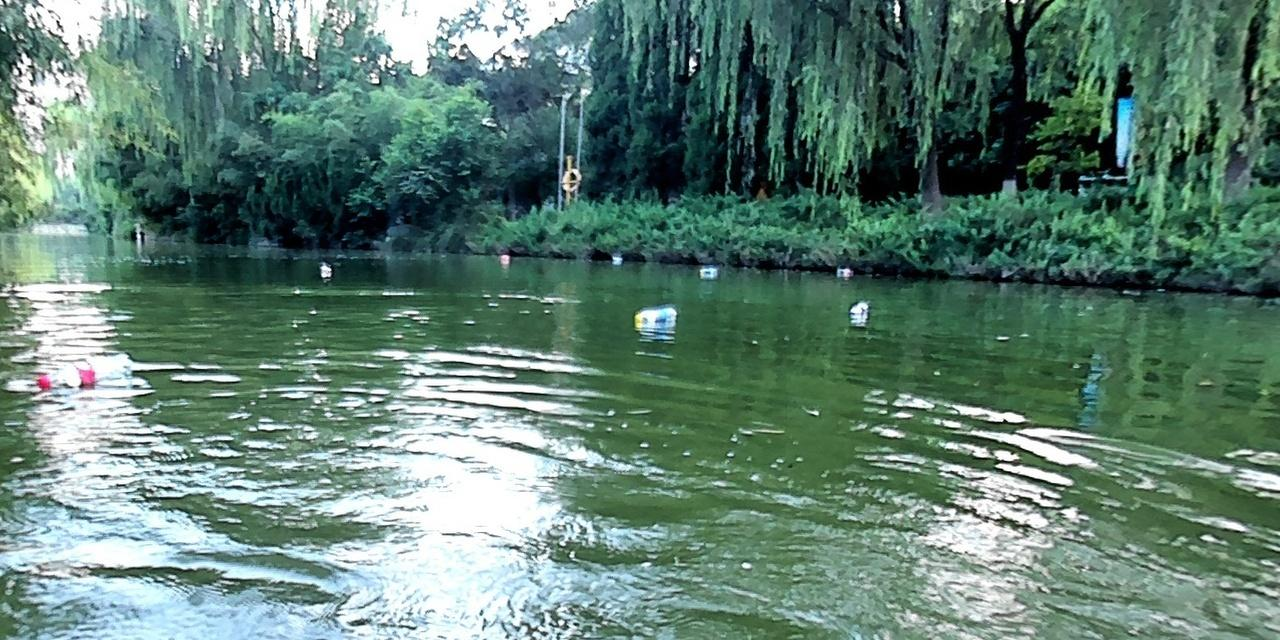bottle: (37, 352, 133, 387), (632, 303, 679, 326), (844, 298, 867, 314), (317, 263, 332, 278), (834, 265, 854, 275), (698, 265, 713, 278), (498, 252, 509, 264), (611, 254, 621, 265)
